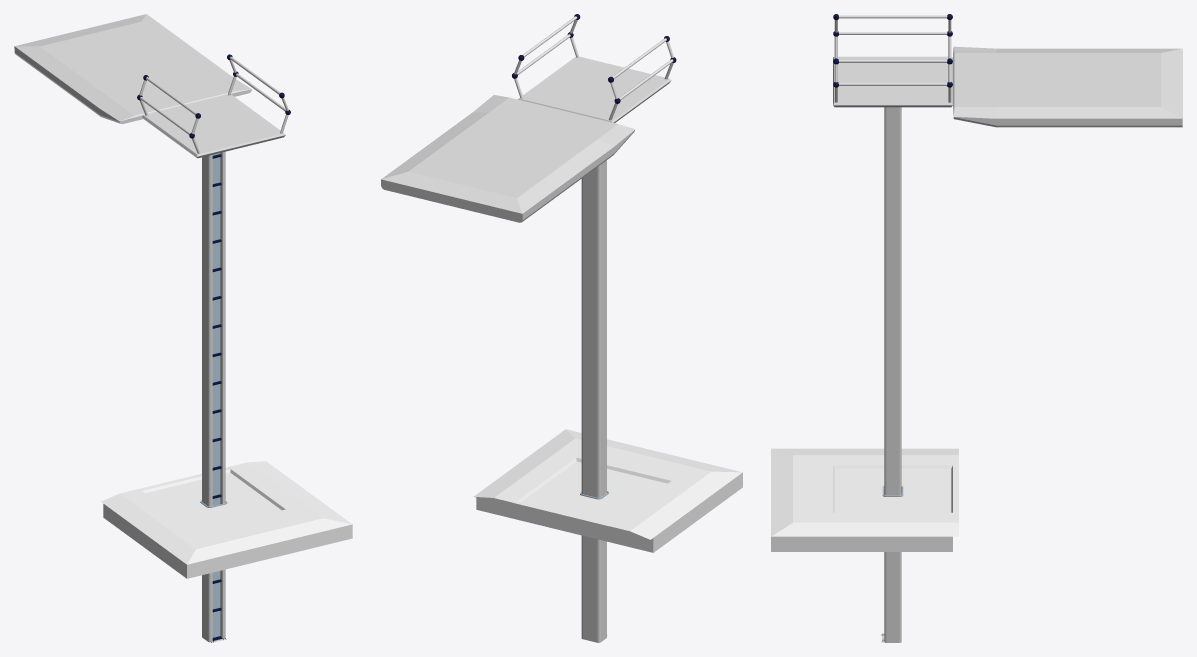
File: Elevator.fbx
3 views of the same model, side by side, from view 1: azimuth 30°, elevation 25°; view 2: azimuth 150°, elevation 25°; view 3: azimuth 270°, elevation 25° (orthographic). The views are drawn at different scales.
Parts seen in each view (by area): view 1: Platform-Unten, Platform-Oben, Platform-Stange, Lift_Platform; view 2: Platform-Oben, Platform-Unten, Platform-Stange, Lift_Platform; view 3: Platform-Unten, Platform-Oben, Platform-Stange, Lift_Platform.
Boxes of the visible parts, <box> form: Platform-Unten: <box>101,461,352,578</box>; Platform-Oben: <box>14,14,251,123</box>; Platform-Stange: <box>202,151,226,642</box>; Lift_Platform: <box>142,94,285,158</box>; Platform-Oben: <box>381,95,635,222</box>; Platform-Unten: <box>473,429,742,552</box>; Platform-Stange: <box>581,160,607,642</box>; Lift_Platform: <box>518,56,671,122</box>; Platform-Unten: <box>771,448,958,551</box>; Platform-Oben: <box>953,46,1182,127</box>; Platform-Stange: <box>881,107,901,642</box>; Lift_Platform: <box>833,56,952,107</box>.
Size of the model in its own units: 1897 by 6066 by 3757.
